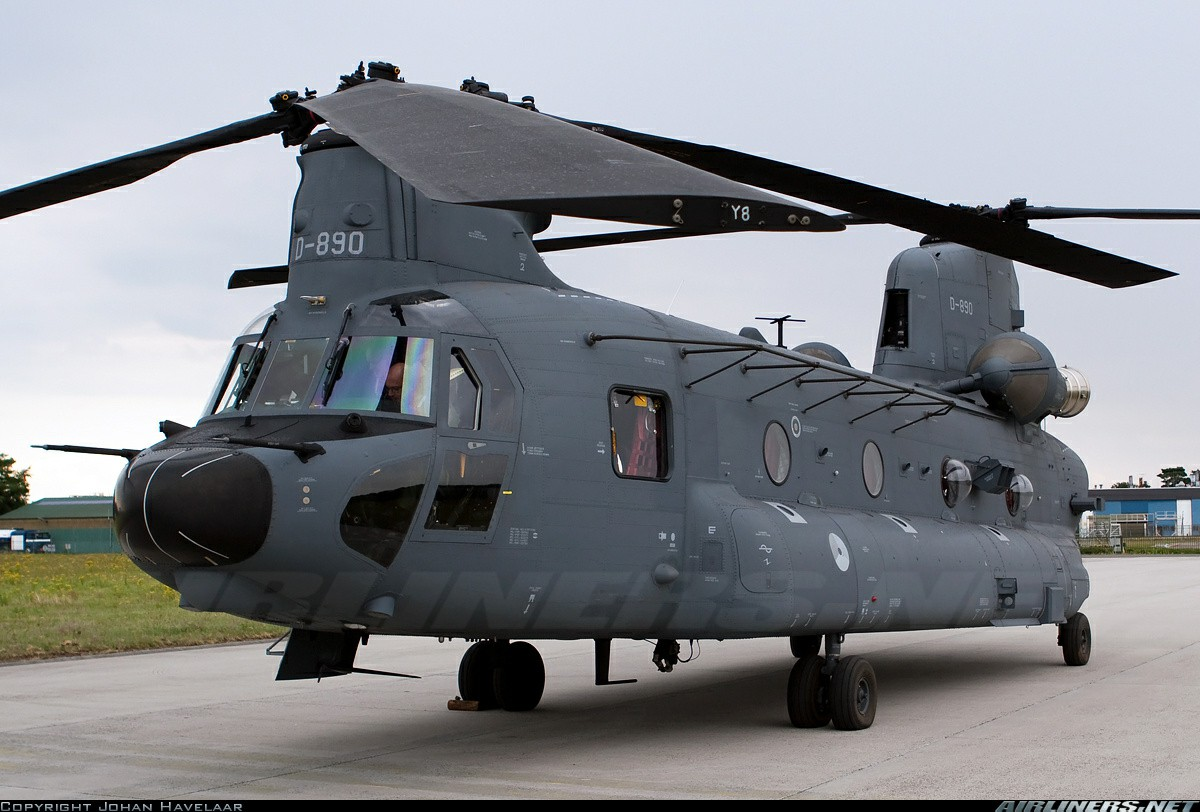chinook: (50, 66, 1191, 729)
